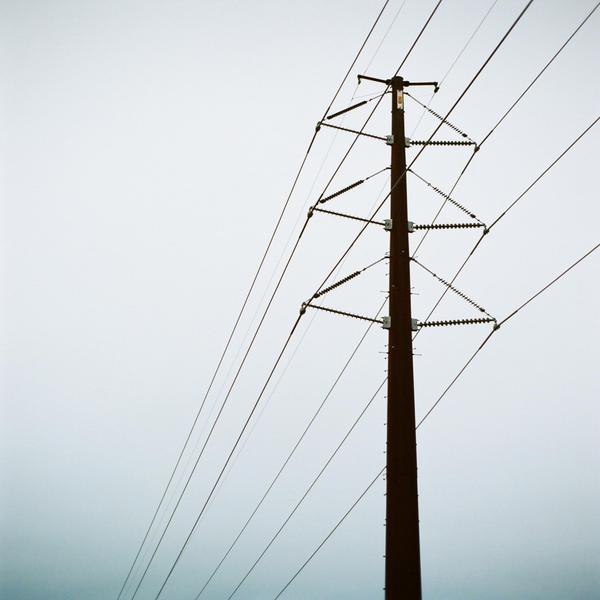utility_pole: (295, 59, 504, 387)
